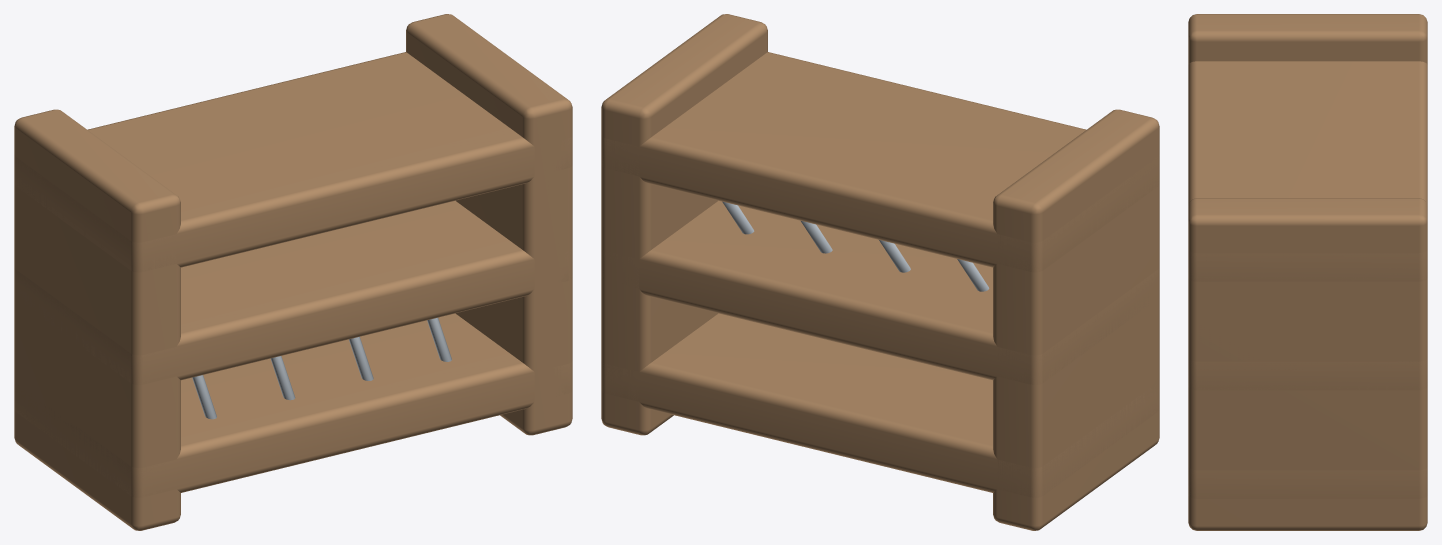
The model's file is atelier-pot-rack.glb.
3 views of the same model, side by side, from view 1: azimuth 30°, elevation 25°; view 2: azimuth 150°, elevation 25°; view 3: azimuth 270°, elevation 25° (orthographic). The views are drawn at different scales.
Parts seen in each view (by area): view 1: legs.161, steel.019; view 2: legs.161, steel.019; view 3: legs.161.
Boxes of the visible parts, x1=… form: legs.161: x1=14, y1=14, x2=572, y2=530; steel.019: x1=192, y1=317, x2=451, y2=419; legs.161: x1=601, y1=14, x2=1159, y2=530; steel.019: x1=722, y1=201, x2=989, y2=291; legs.161: x1=1188, y1=14, x2=1427, y2=530.
Bounding box in the file's own units: 0.45 × 0.32 × 0.22.
